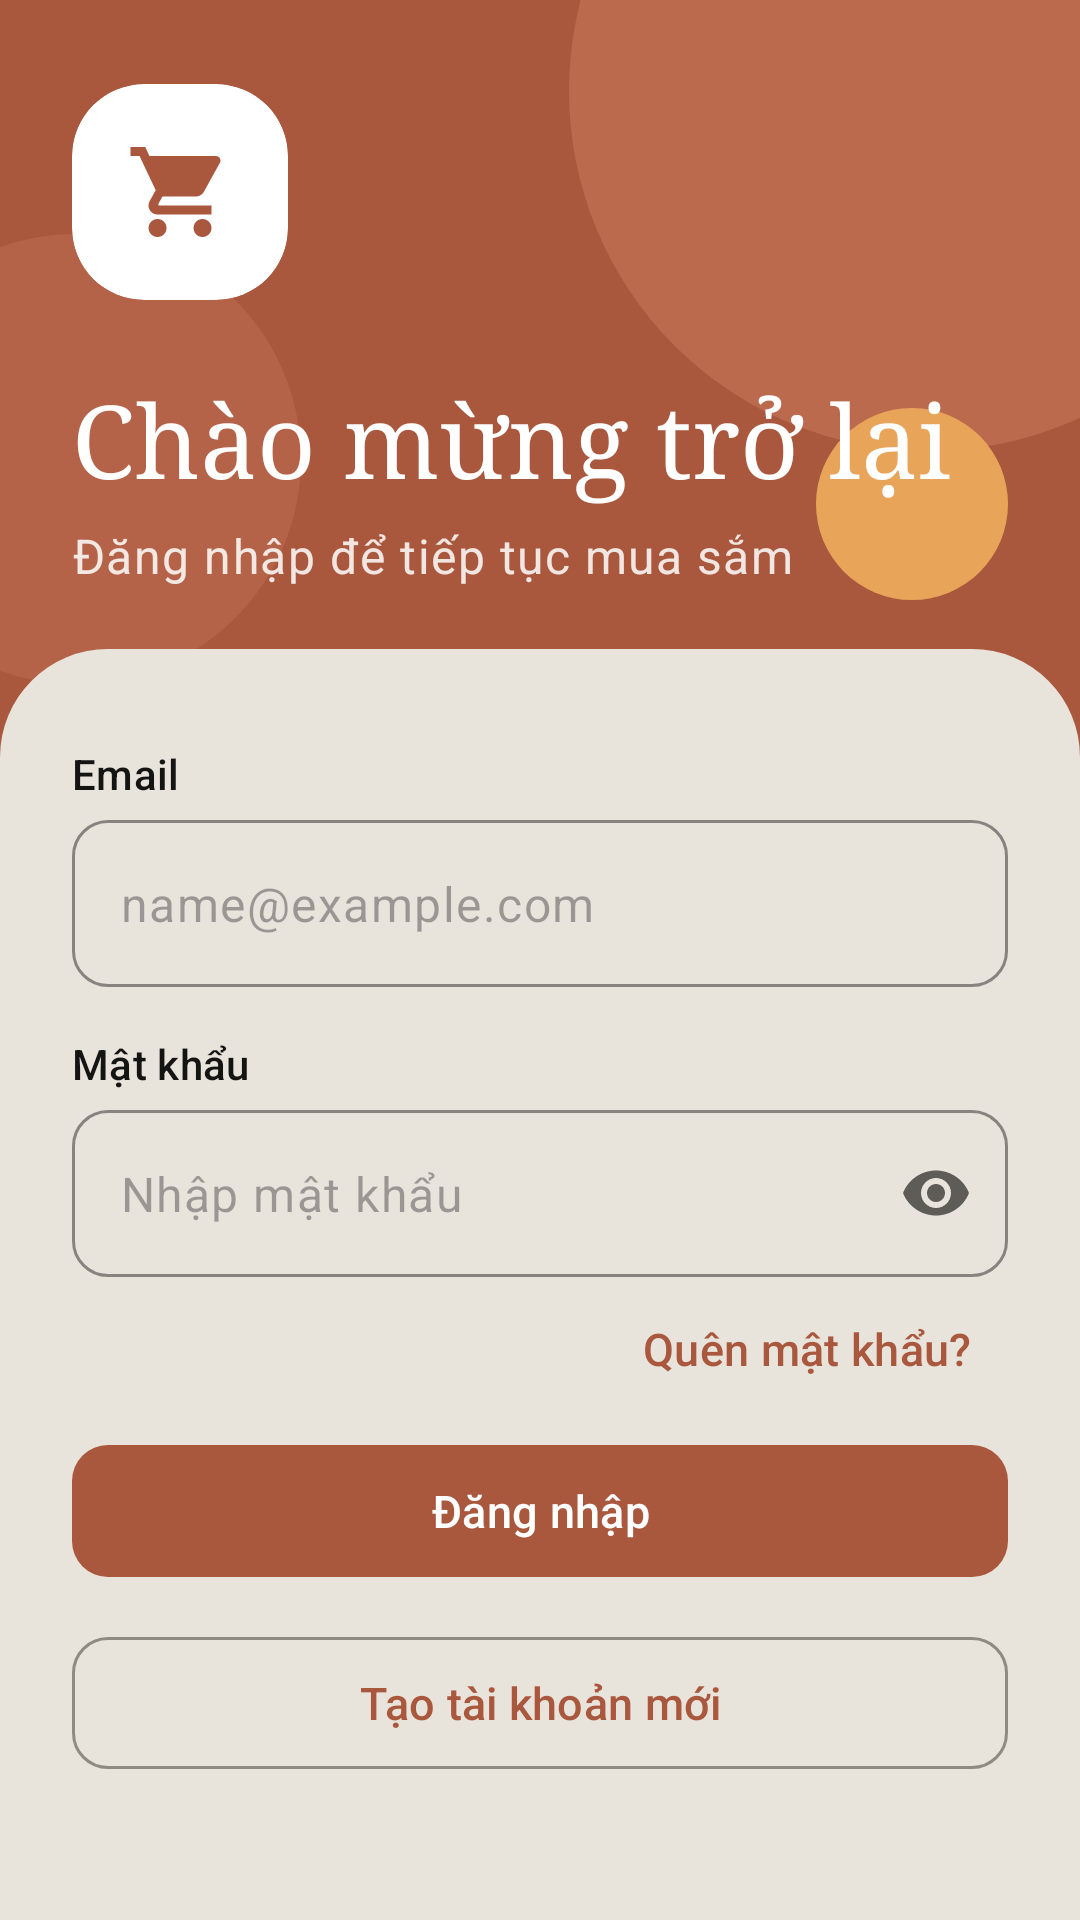

Icons on this 1080*1920 Android screen, each with its box as (x1, y1, x2, y2):
shopping: (130, 147, 221, 237)
